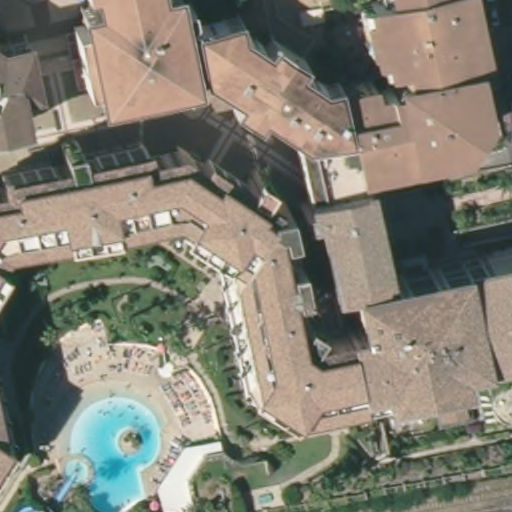pool: (54, 396, 165, 510)
